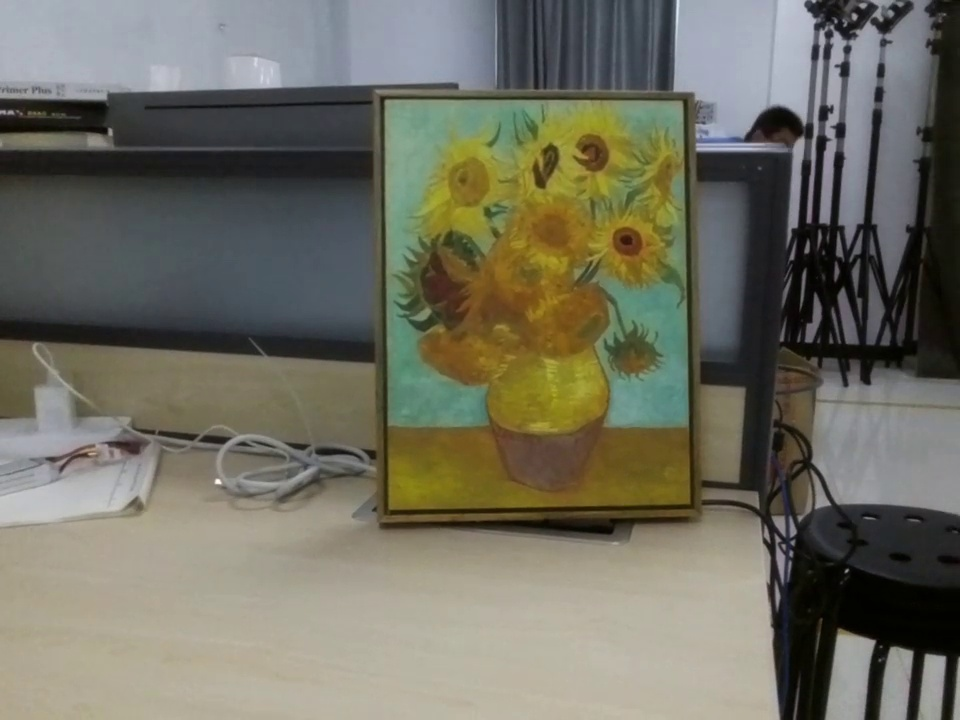painting: (366, 87, 725, 527)
